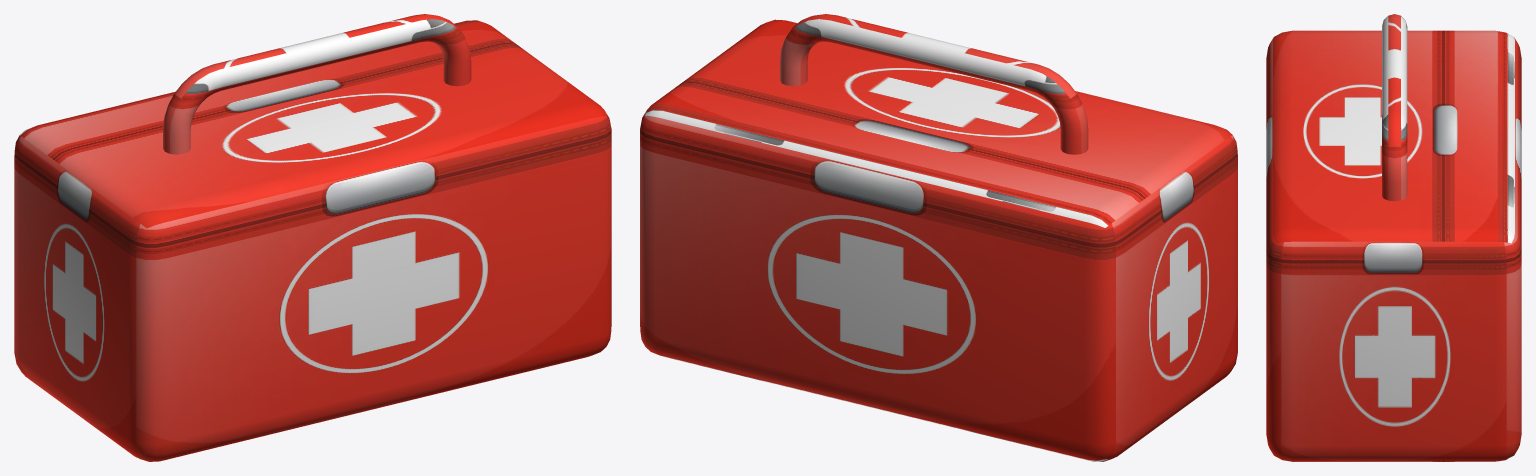
File: Vida.fbx
The picture shows the model from 3 angles, left to right: view 1: azimuth 30°, elevation 25°; view 2: azimuth 150°, elevation 25°; view 3: azimuth 270°, elevation 25°; orthographic projection. The views are drawn at different scales.
Visible parts, largest first — view 1: Box001; view 2: Box001; view 3: Box001.
Part boxes in pixels (x1,y1,x2,y2): Box001: [14, 14, 611, 461]; Box001: [640, 14, 1237, 461]; Box001: [1266, 14, 1521, 461].
Bounding box in the file's own units: 20 × 12.95 × 10.
1 material, 1 textured.
